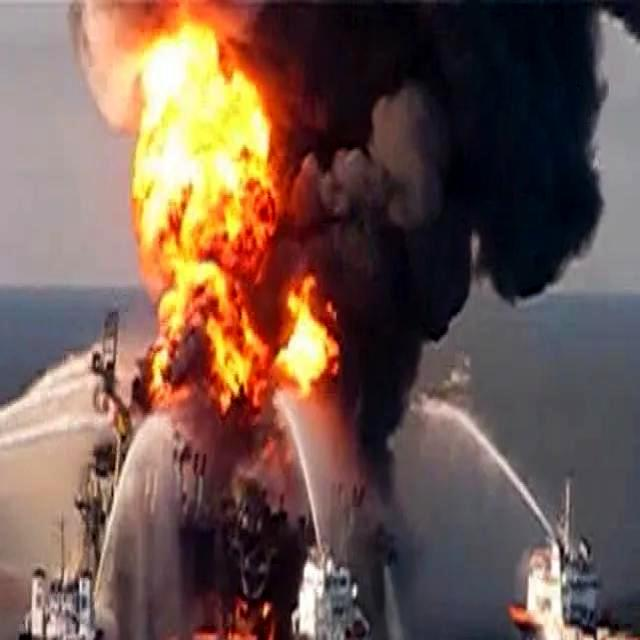fire: (88, 11, 324, 417)
